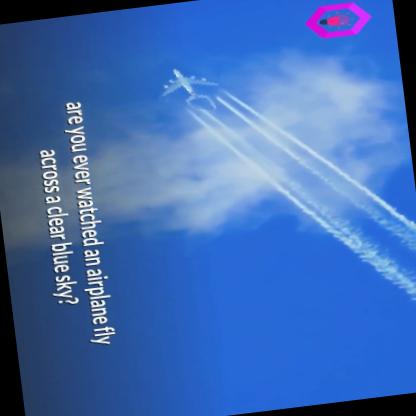plane: (154, 55, 222, 113)
